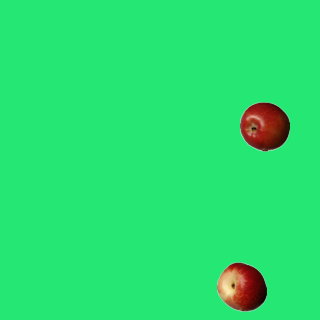Apple Braeburn: (239, 101, 289, 151)
Nectarine: (216, 261, 266, 311)
